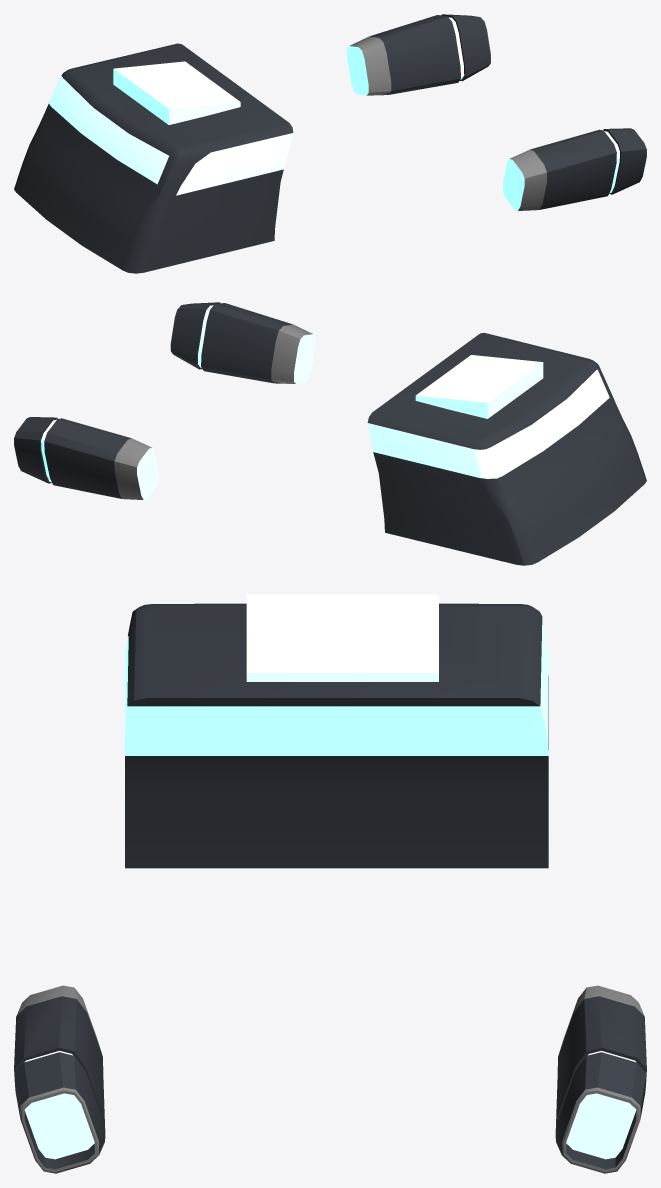
The model's file is SpaceshipExtras.fbx.
3 views of the same model, one above another, from view 1: azimuth 30°, elevation 25°; view 2: azimuth 150°, elevation 25°; view 3: azimuth 270°, elevation 25° (orthographic). The views are drawn at different scales.
Parts seen in each view (by area): view 1: Cube, Plane.002, Plane.003; view 2: Cube, Plane.002, Plane.003; view 3: Cube, Plane.002, Plane.003.
Part boxes in pixels (x1,y1,x2,y2): Cube: [14, 43, 293, 273]; Plane.002: [347, 14, 646, 210]; Plane.003: [113, 61, 240, 124]; Cube: [367, 332, 646, 565]; Plane.002: [14, 302, 315, 499]; Plane.003: [415, 355, 543, 418]; Cube: [124, 603, 548, 868]; Plane.002: [14, 985, 646, 1173]; Plane.003: [246, 594, 438, 681].
Bounding box in the file's own units: 26.56 × 7.2 × 17.02.
Materials: 3 (2 with a texture image).
